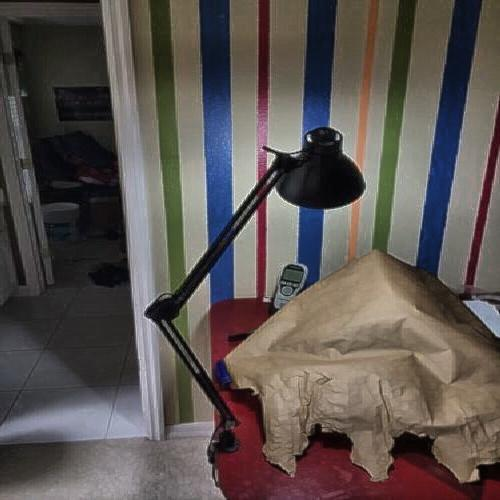lamp: (140, 131, 385, 453)
